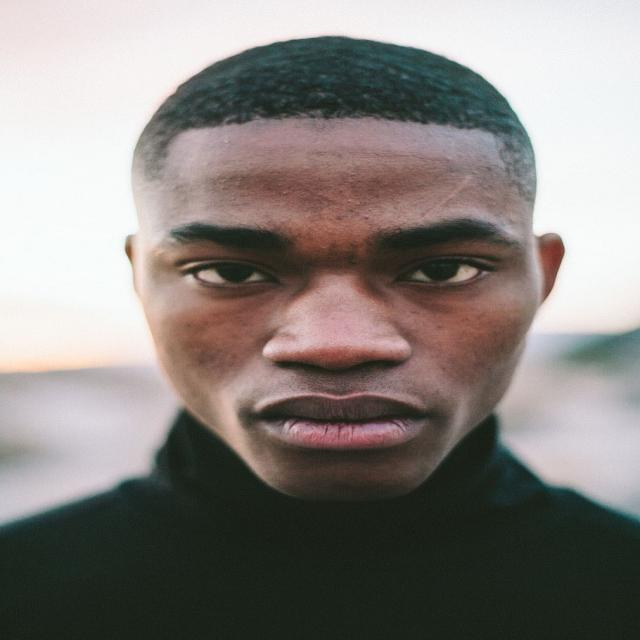nothing: (106, 29, 586, 266)
